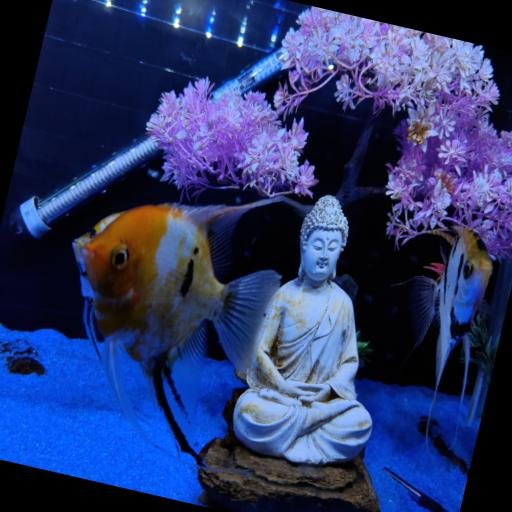Fish: (75, 198, 280, 463), (409, 226, 492, 421)
